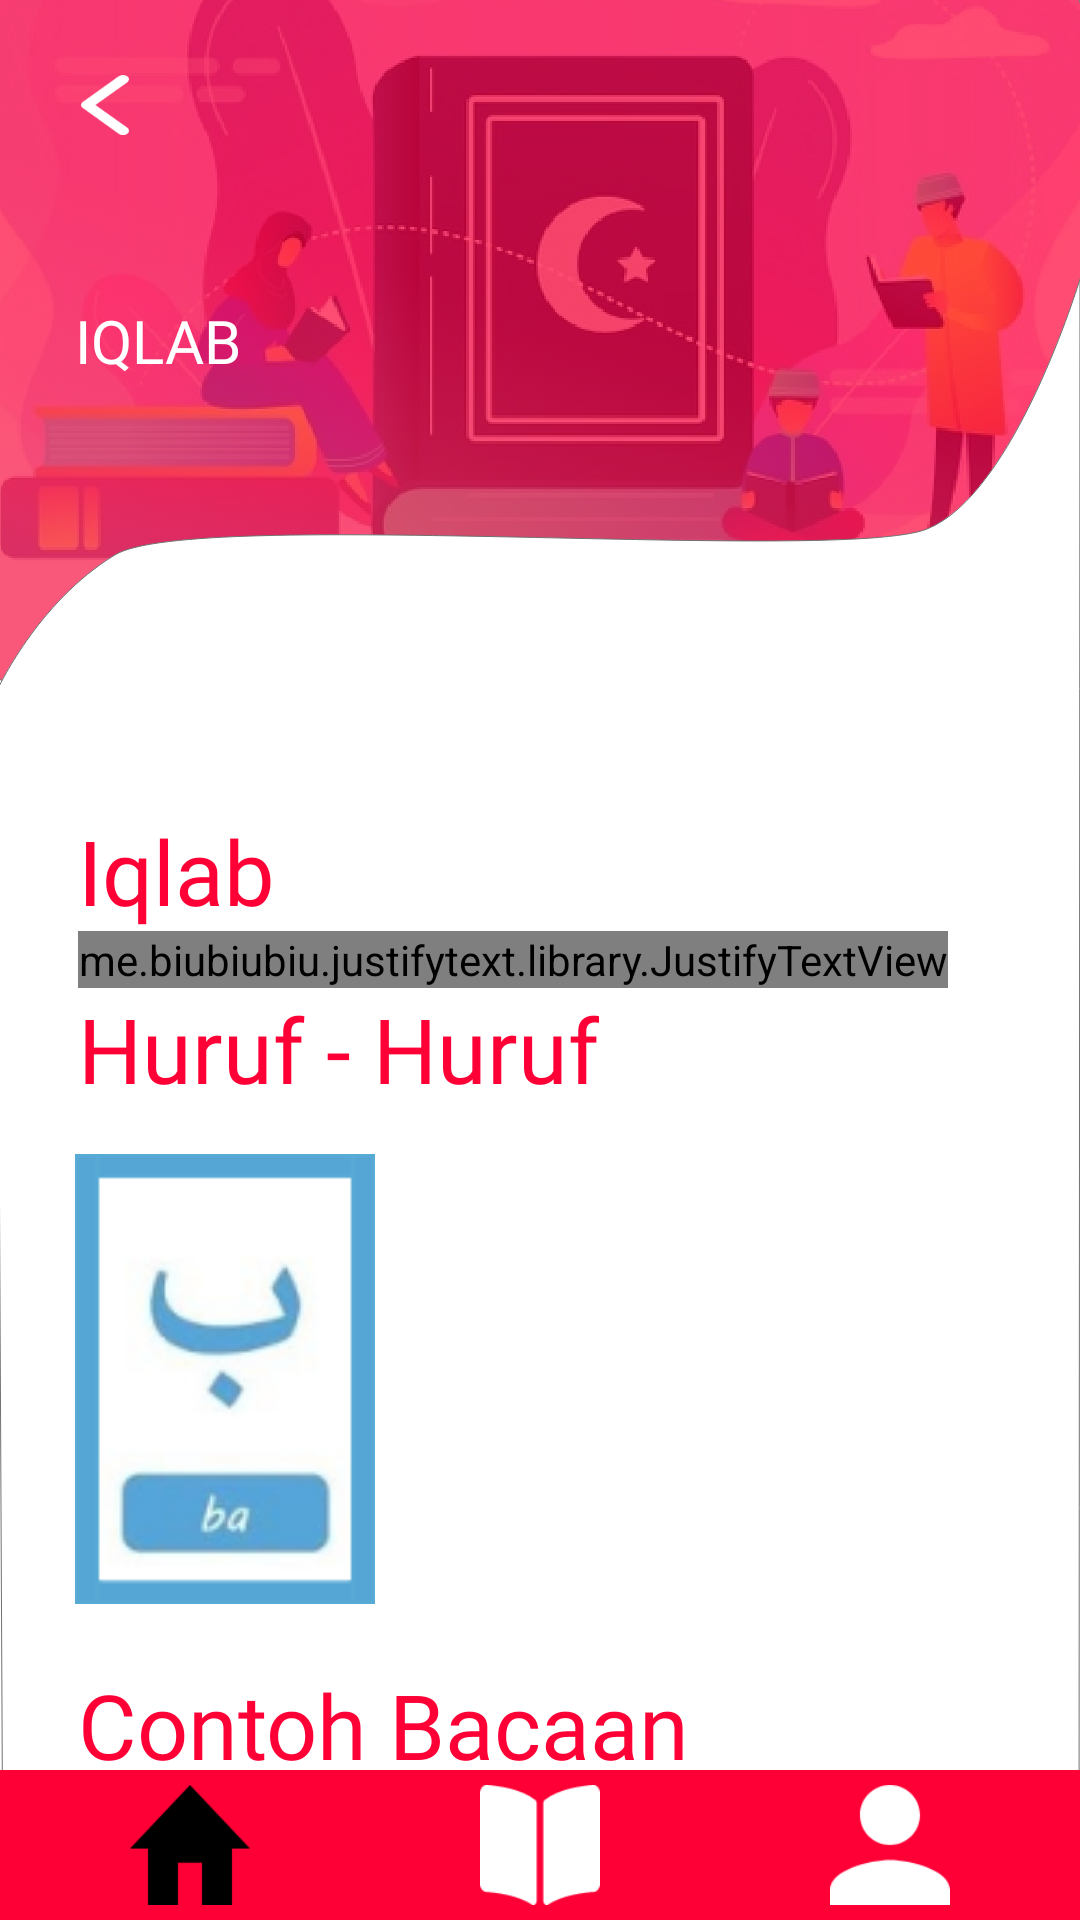

Screen size 1080w x 1920h. Icon name, then its box in pixels as Rect(x1, y1, x2, y2):
akun: Rect(830, 1785, 950, 1905)
back: Rect(81, 75, 129, 135)
home: Rect(130, 1785, 250, 1905)
